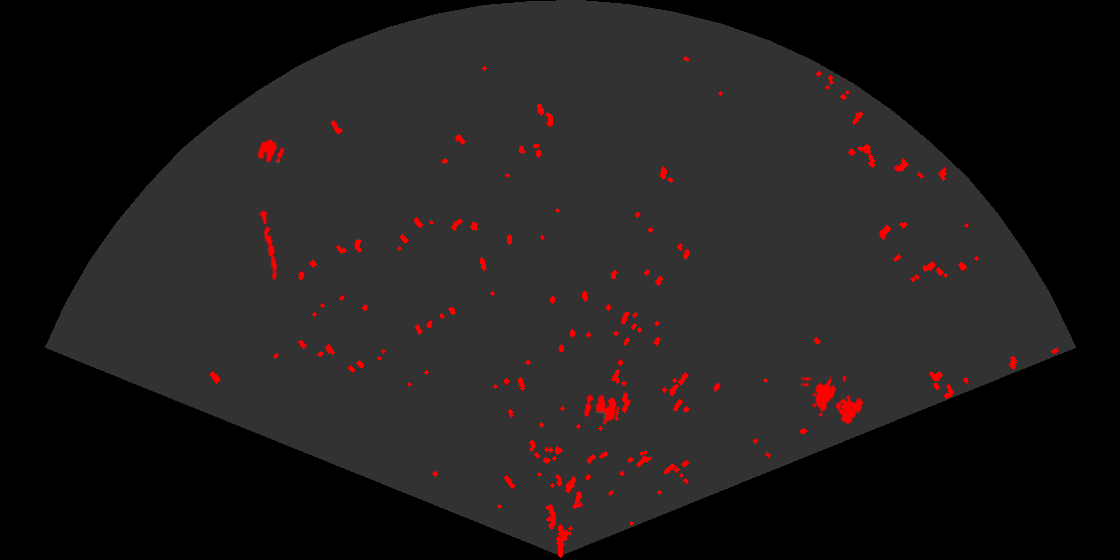ball: (583, 393, 619, 426), (256, 138, 286, 165)
cage: (801, 376, 866, 426)
chain: (258, 207, 279, 282)
